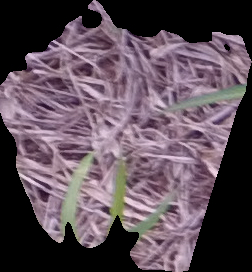soil: (2, 1, 251, 269)
